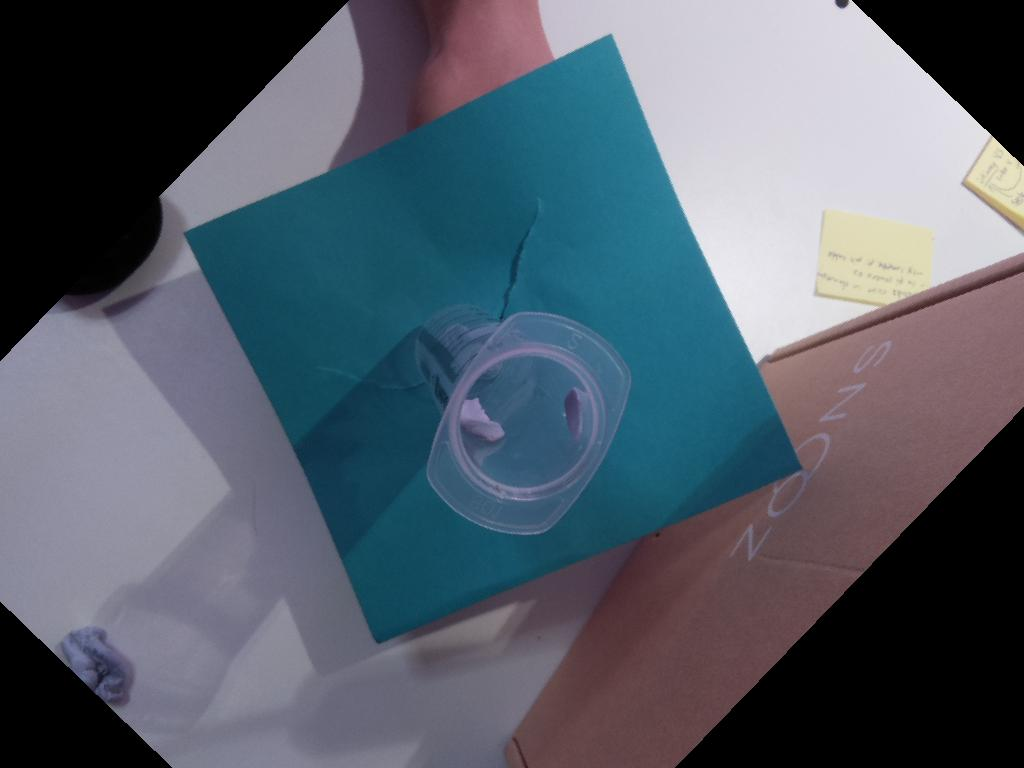dirty: (428, 310, 631, 535)
